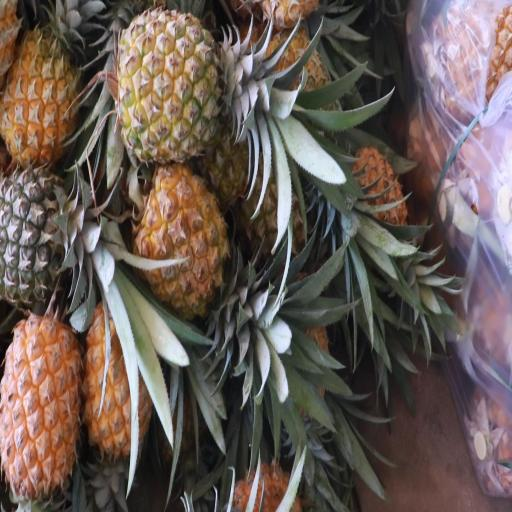Pineapple - v8 v1: (115, 7, 311, 170), (0, 281, 84, 512), (142, 152, 247, 335), (0, 24, 96, 168), (83, 303, 155, 467)
